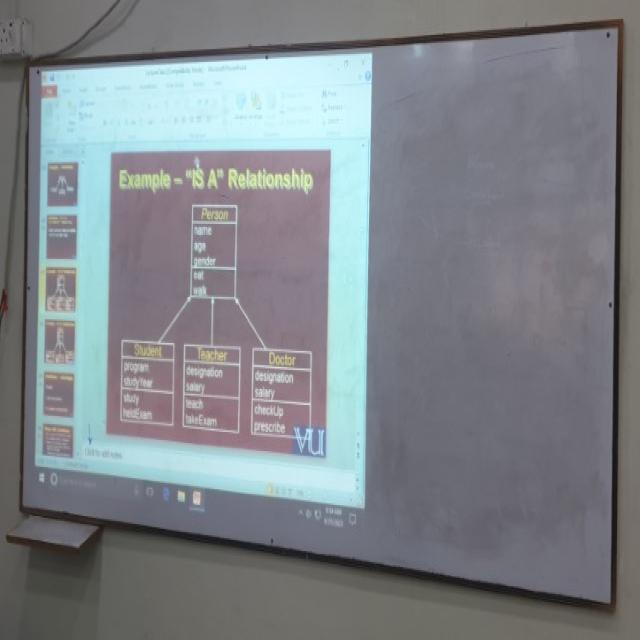Slide: (35, 51, 375, 537)
White-board: (20, 25, 621, 606)
